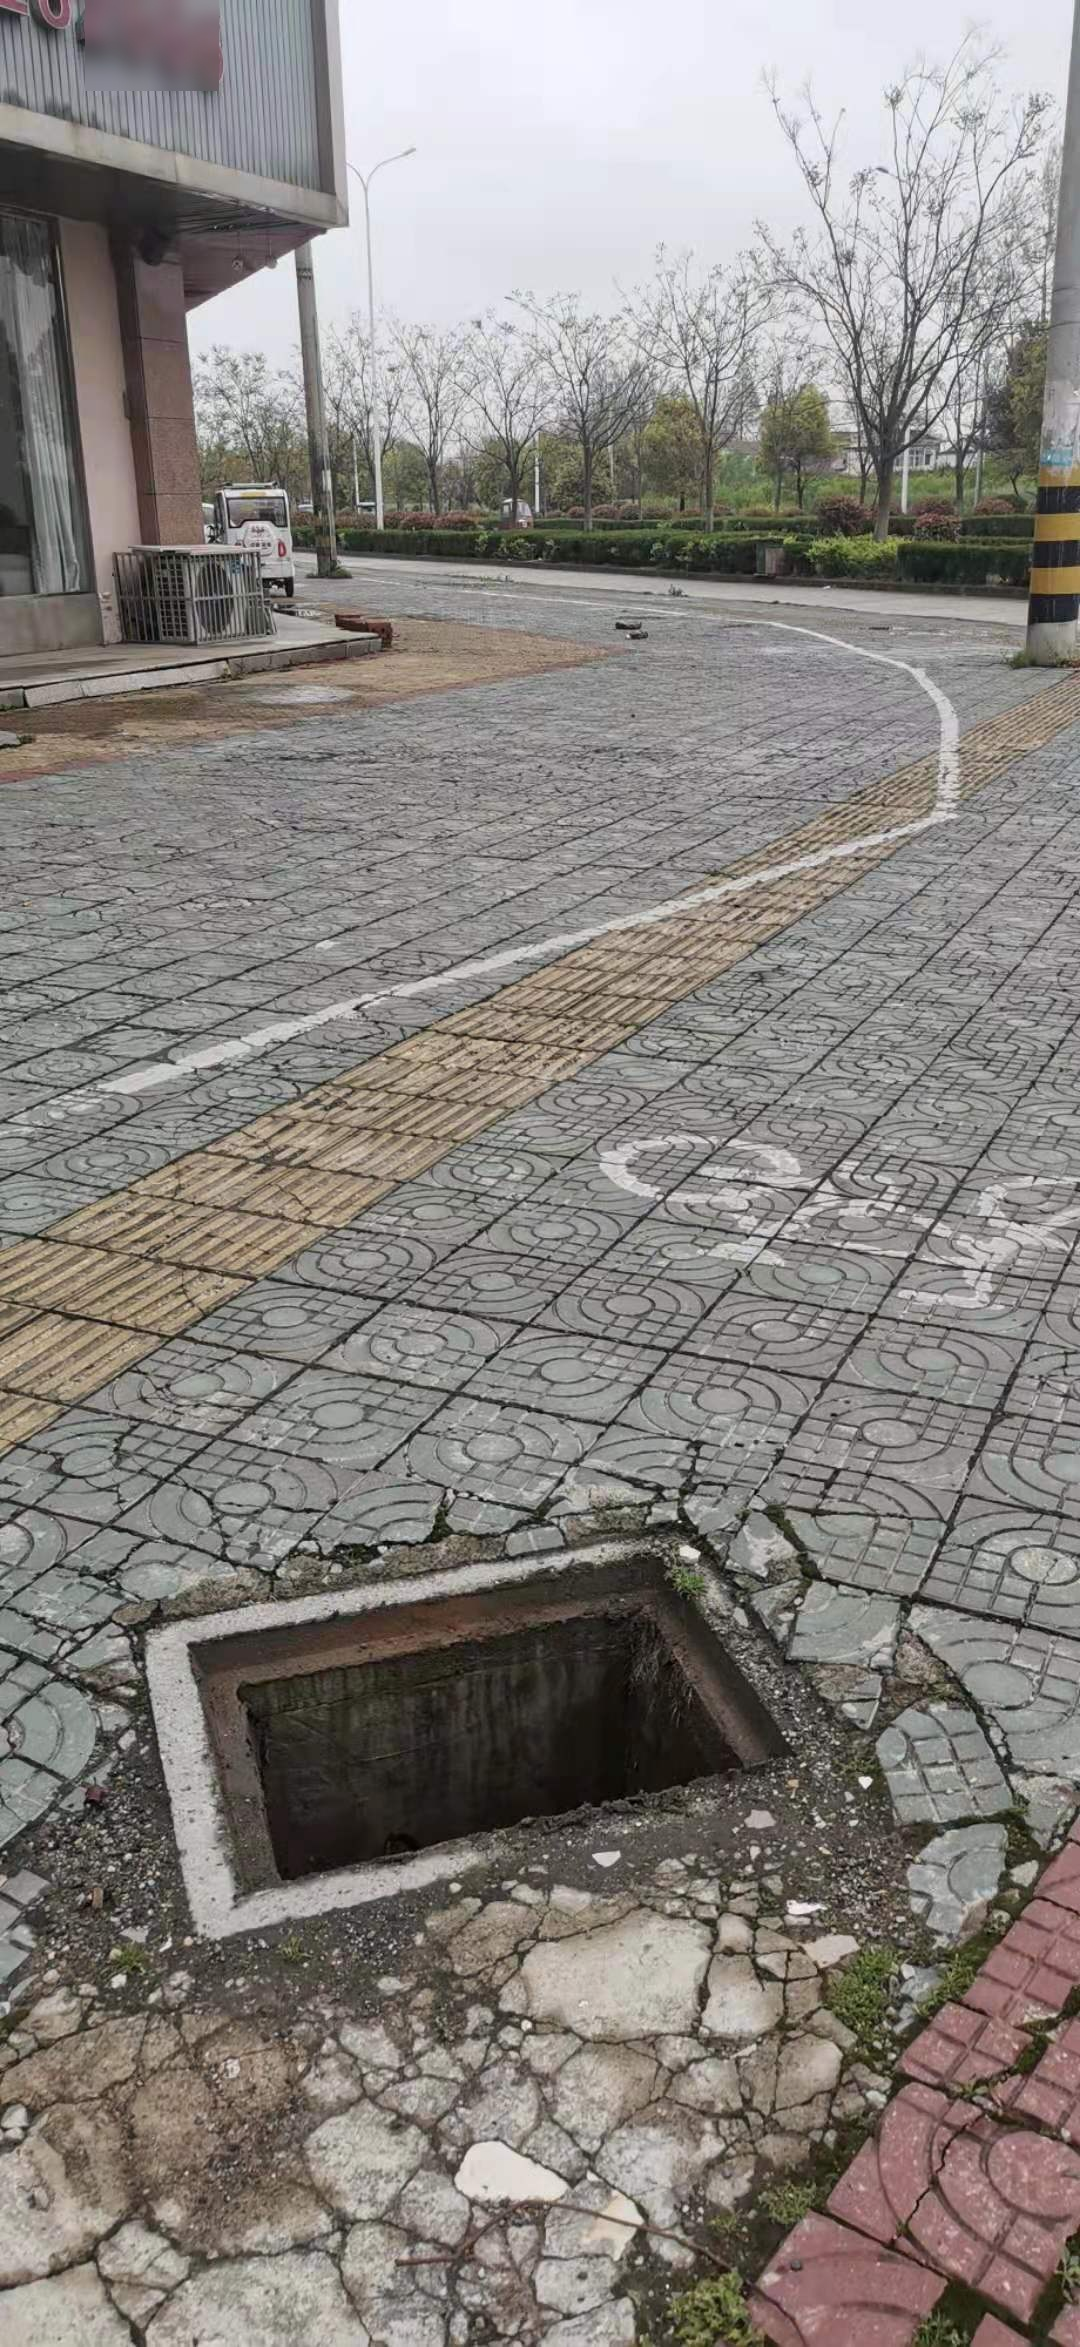lose: (138, 1530, 856, 1944)
